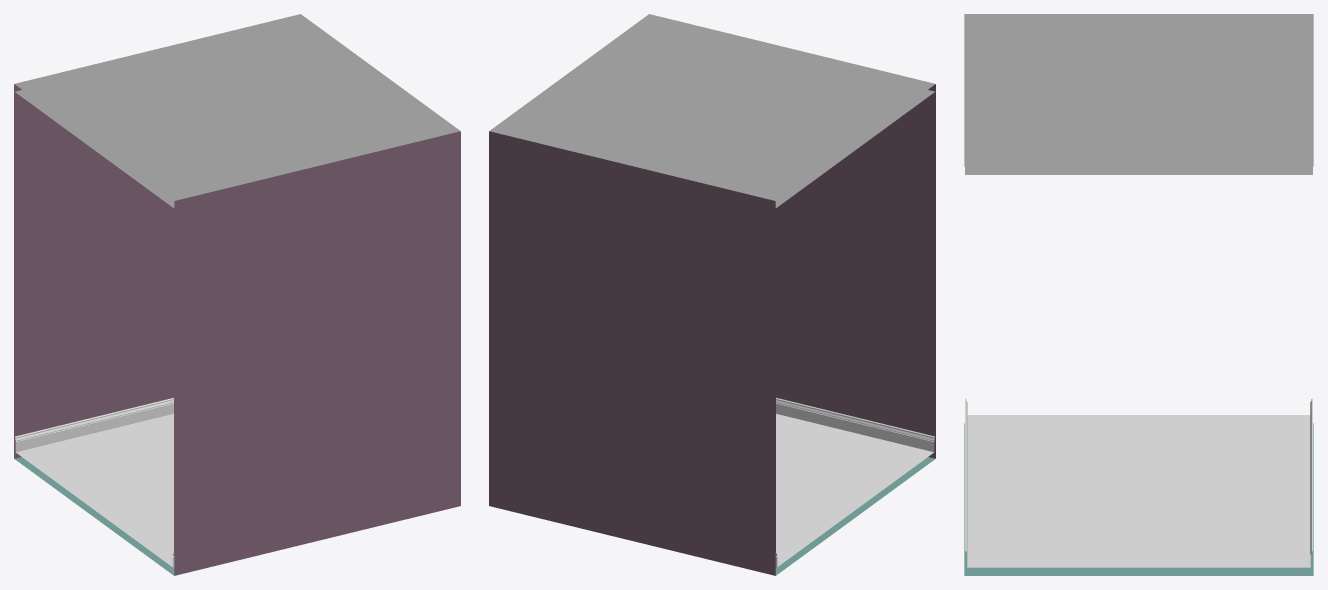
Rendered from corridor_test_2.fbx.
3 views of the same model, side by side, from view 1: azimuth 30°, elevation 25°; view 2: azimuth 150°, elevation 25°; view 3: azimuth 270°, elevation 25° (orthographic). The views are drawn at different scales.
Visible parts, largest first — view 1: Corridor_no_doors3; view 2: Corridor_no_doors3; view 3: Corridor_no_doors3.
Boxes of the visible parts, x1,y1,x2,y2 form: Corridor_no_doors3: (14, 14, 460, 575); Corridor_no_doors3: (489, 14, 935, 575); Corridor_no_doors3: (964, 14, 1313, 575).
Bounding box in the file's own units: 2 × 2.5 × 1.94.
